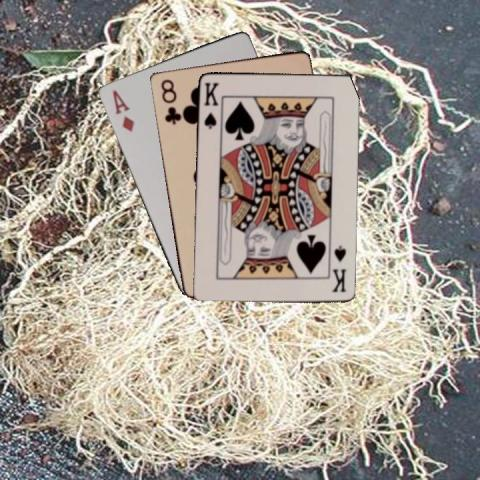8c: (157, 76, 181, 125)
Ad: (109, 87, 135, 134)
Ks: (200, 79, 220, 130), (329, 242, 348, 293)
